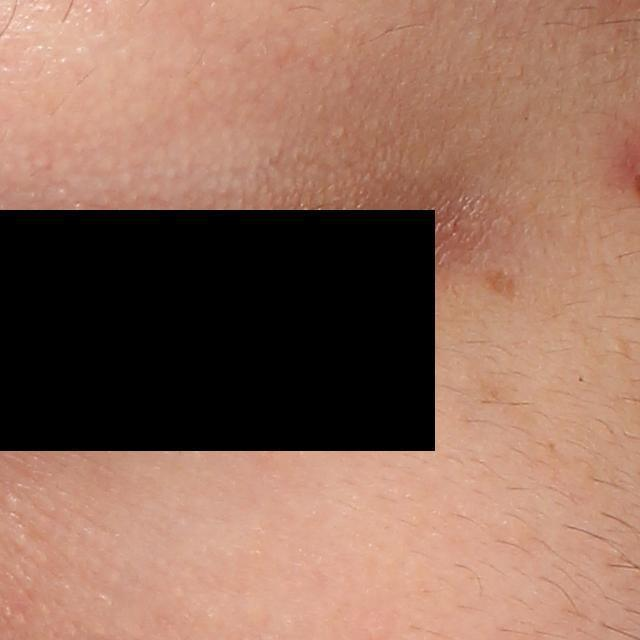melasma: (483, 266, 525, 305)
